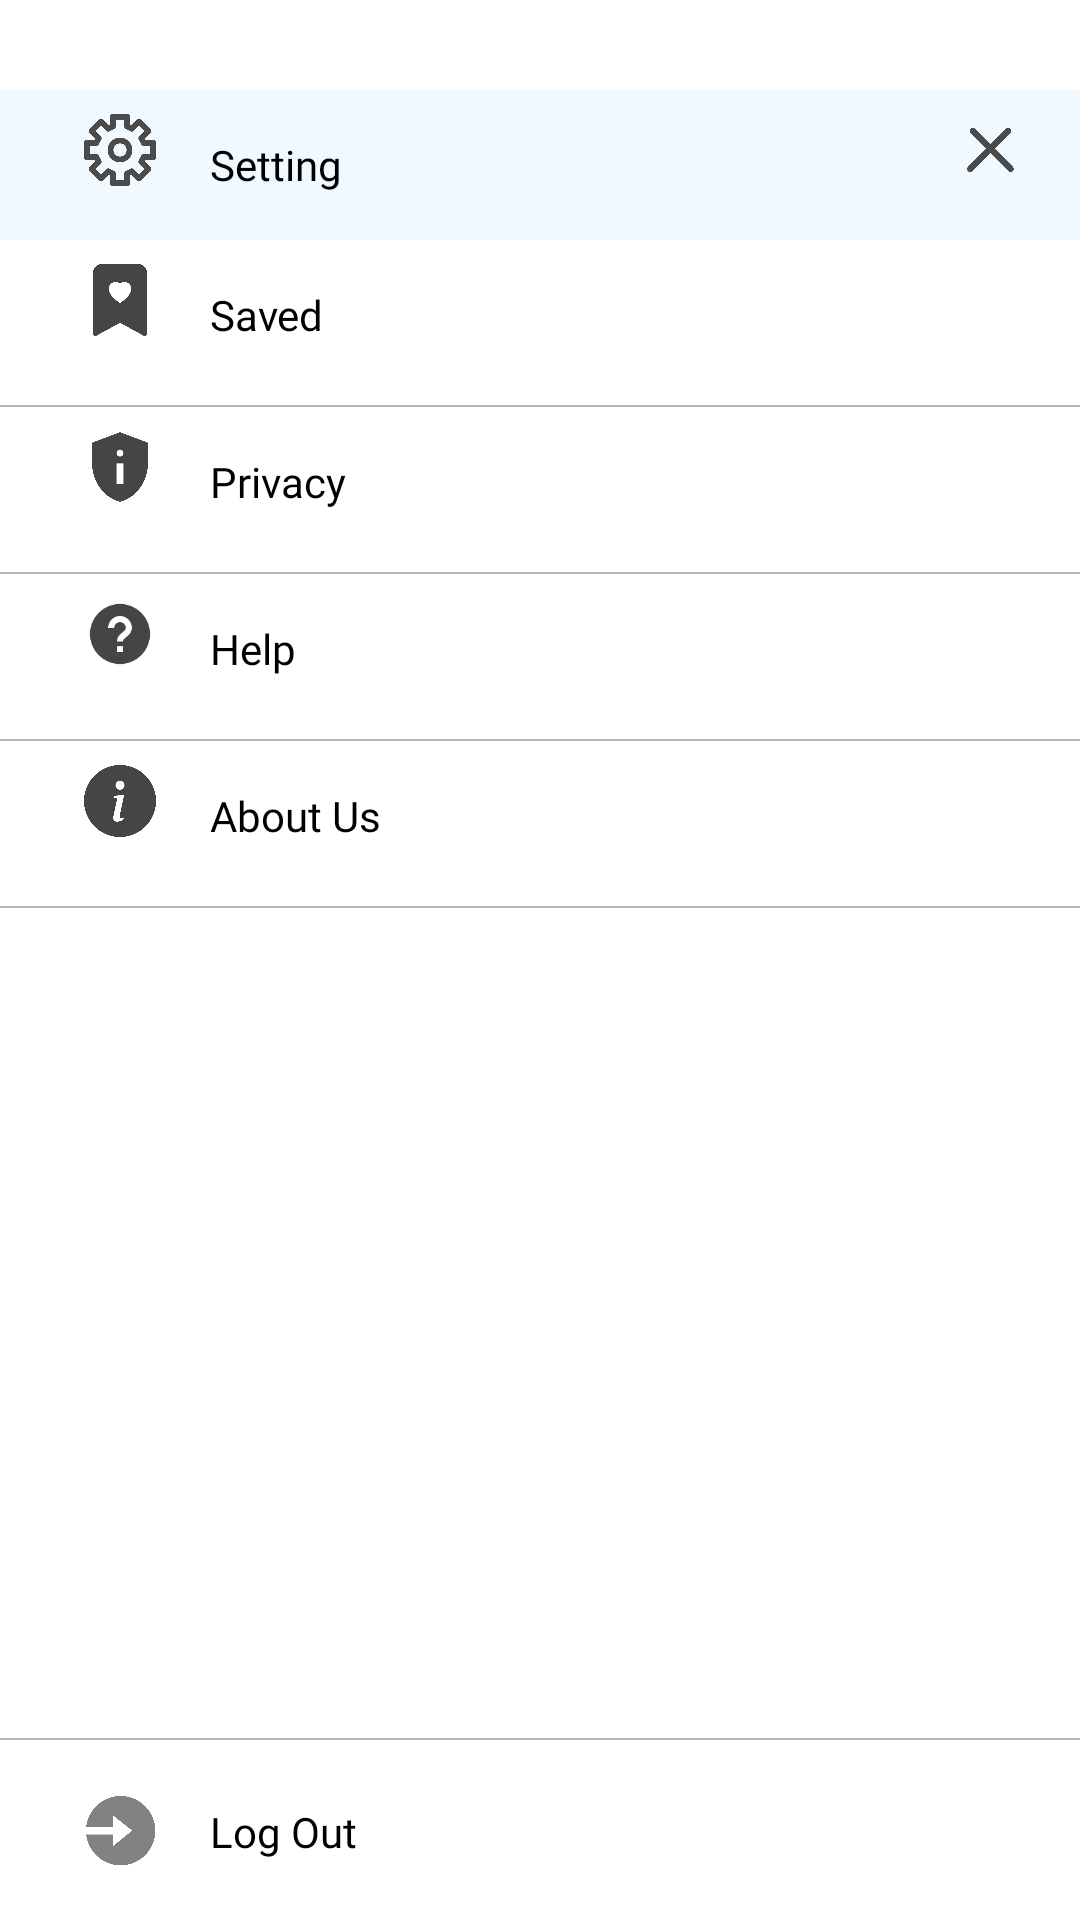

Named icons in this screenshot (1080px x 1920px) and their bounding boxes, (x1, y1, x2, y2):
cross: (967, 128, 1014, 172)
mark: (93, 264, 147, 336)
set: (84, 114, 156, 186)
